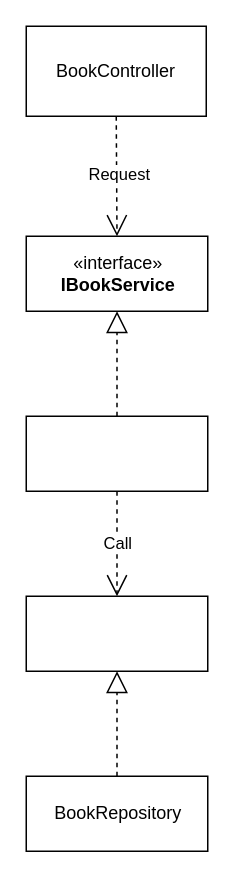
The diagram is 234 pixels wide and 878 high, and some of its shapes have lost their labels. The shapes that lost their labels are listed below. From the top down, each one's centre as x and y in pixels, then its label:
At point (116, 453): "BookService".
At point (116, 633): "«interface» IBookRepository".
